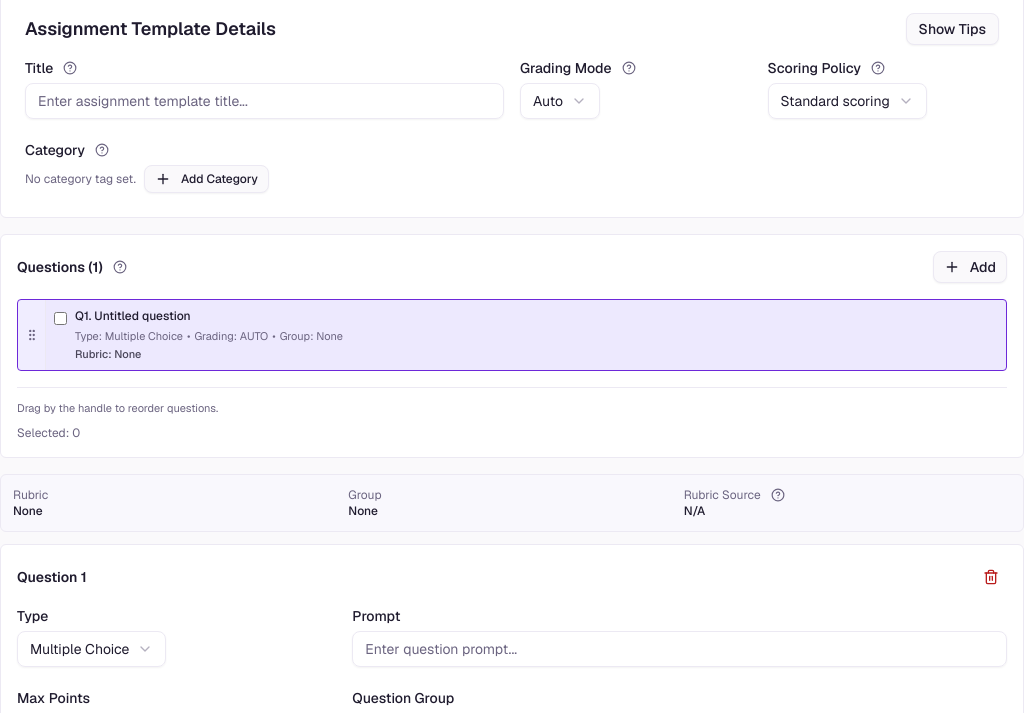
Test: AssignmentTemplateBuilderForm › shows prompt error on submit with empty prompt
Type "My Assignment Template" into the field with placeholder "Enter assignment template title...".
click(264, 101); type("My Assignment Template")  # box [25,83,504,119]
(page scrolled)
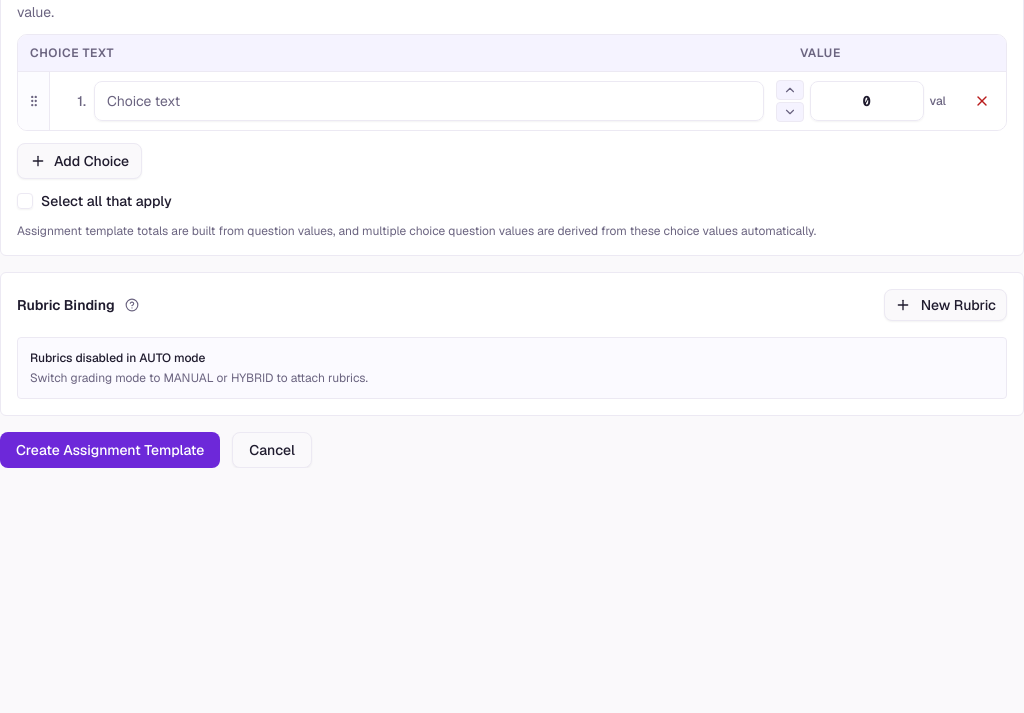
Submit without filling prompt
Click the button "Create Assignment Template".
click(110, 450)  # box [0,432,220,468]
(page scrolled)
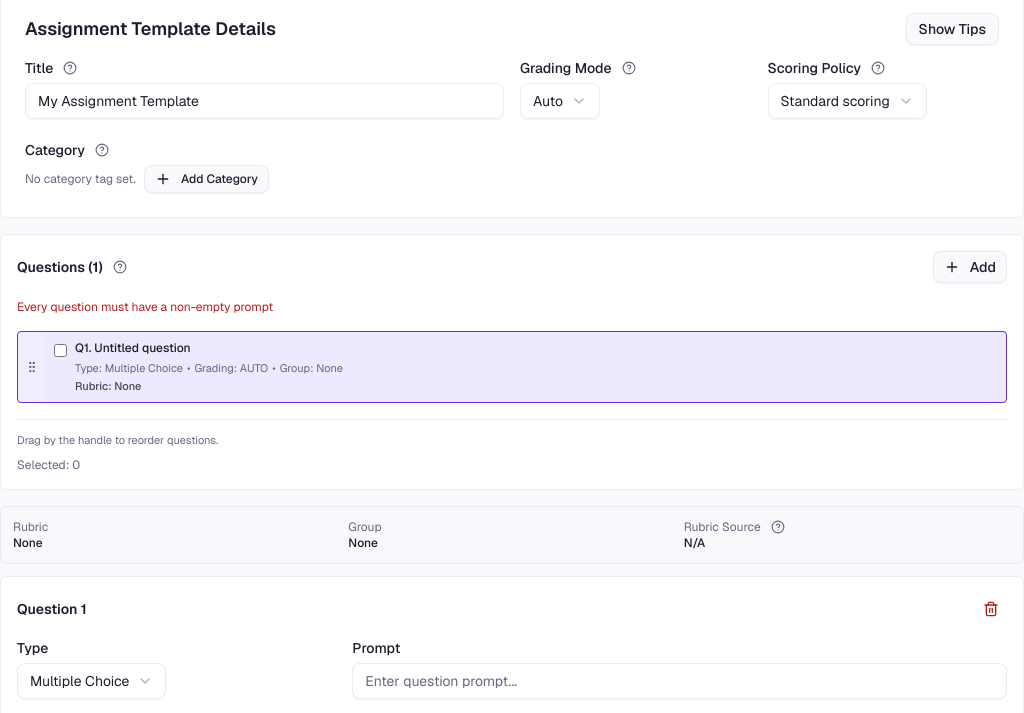
Result: the text "Every question must have a non-empty prompt" is shown at [17,299,273,315]
